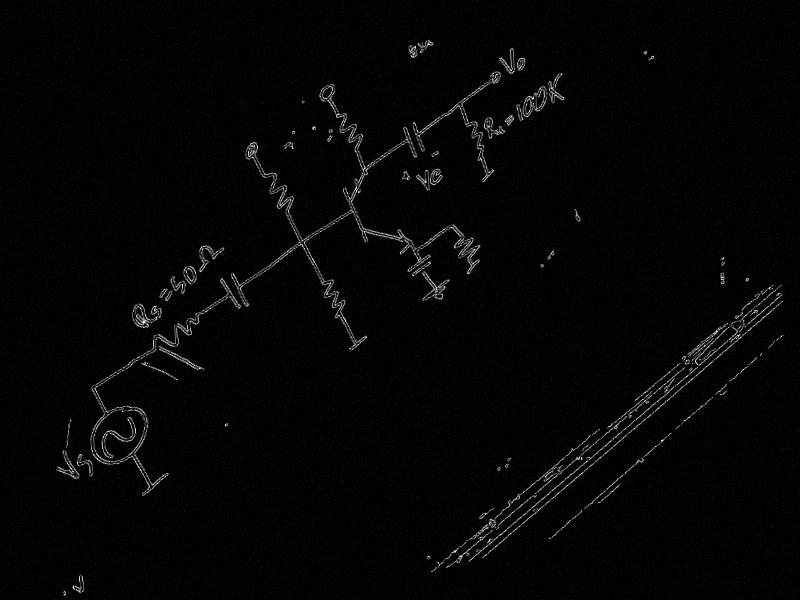-: (430, 149, 440, 159)
0: (531, 83, 550, 114), (182, 262, 198, 288), (521, 92, 535, 118), (516, 54, 527, 72)
1: (514, 100, 525, 124)
5: (169, 271, 187, 299), (149, 302, 163, 321)
V: (55, 444, 83, 487), (497, 45, 516, 77), (415, 166, 431, 196)
k: (546, 70, 566, 105)
